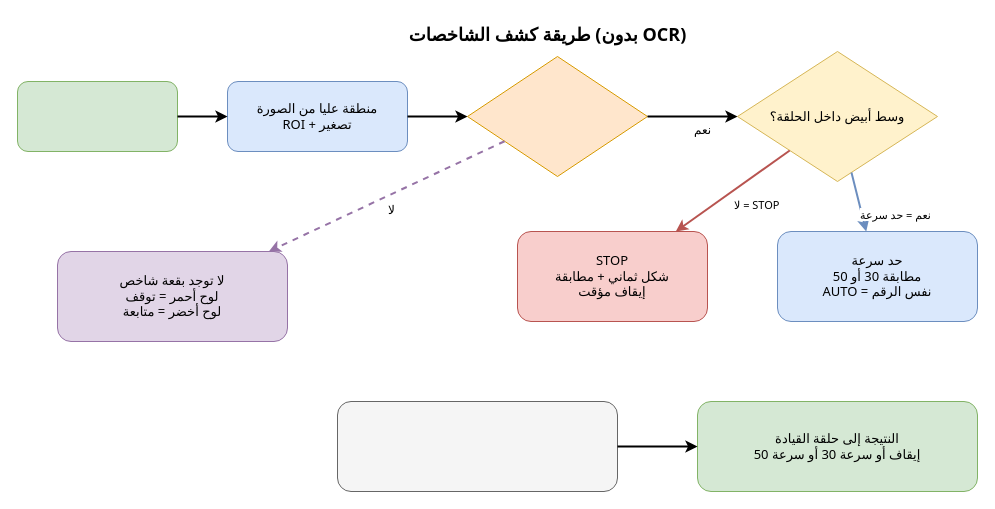
Some shapes in this 995 by 509 pixel diagram are drawn without their labels. The shapes that lost their labels are listed below. From the top down, each one's centre as x and y in pixels, then its label:
the point at 97,116: إطار الكاميرا كل عدة فريمات
the point at 557,116: بقعة حمراء كبيرة؟ قناع HSV
the point at 477,446: تأكيد لعدة فريمات قبل تنفيذ الأمر لتقليل القراءة الخاطئة
